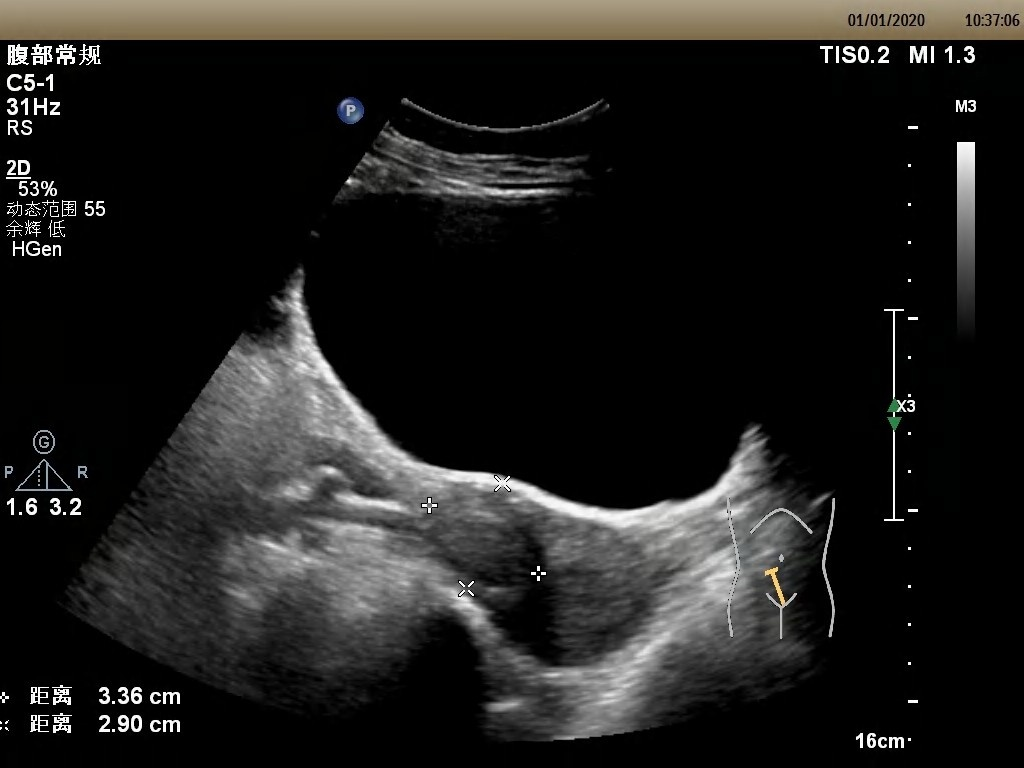肌瘤: (427, 487, 540, 588)
